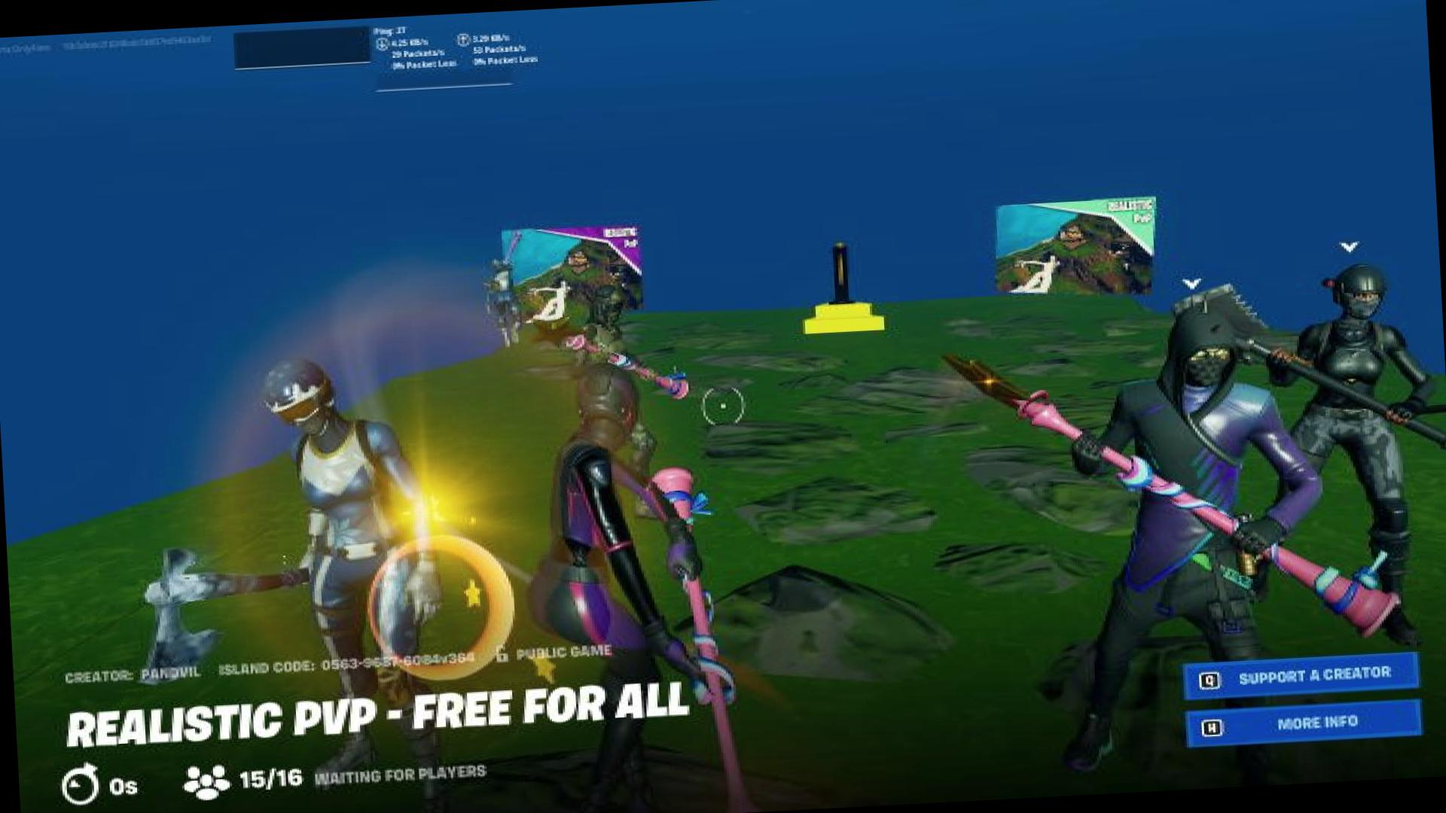player: (1037, 307, 1337, 748), (223, 355, 464, 704), (1287, 257, 1446, 677), (560, 285, 659, 376), (472, 254, 533, 348)
